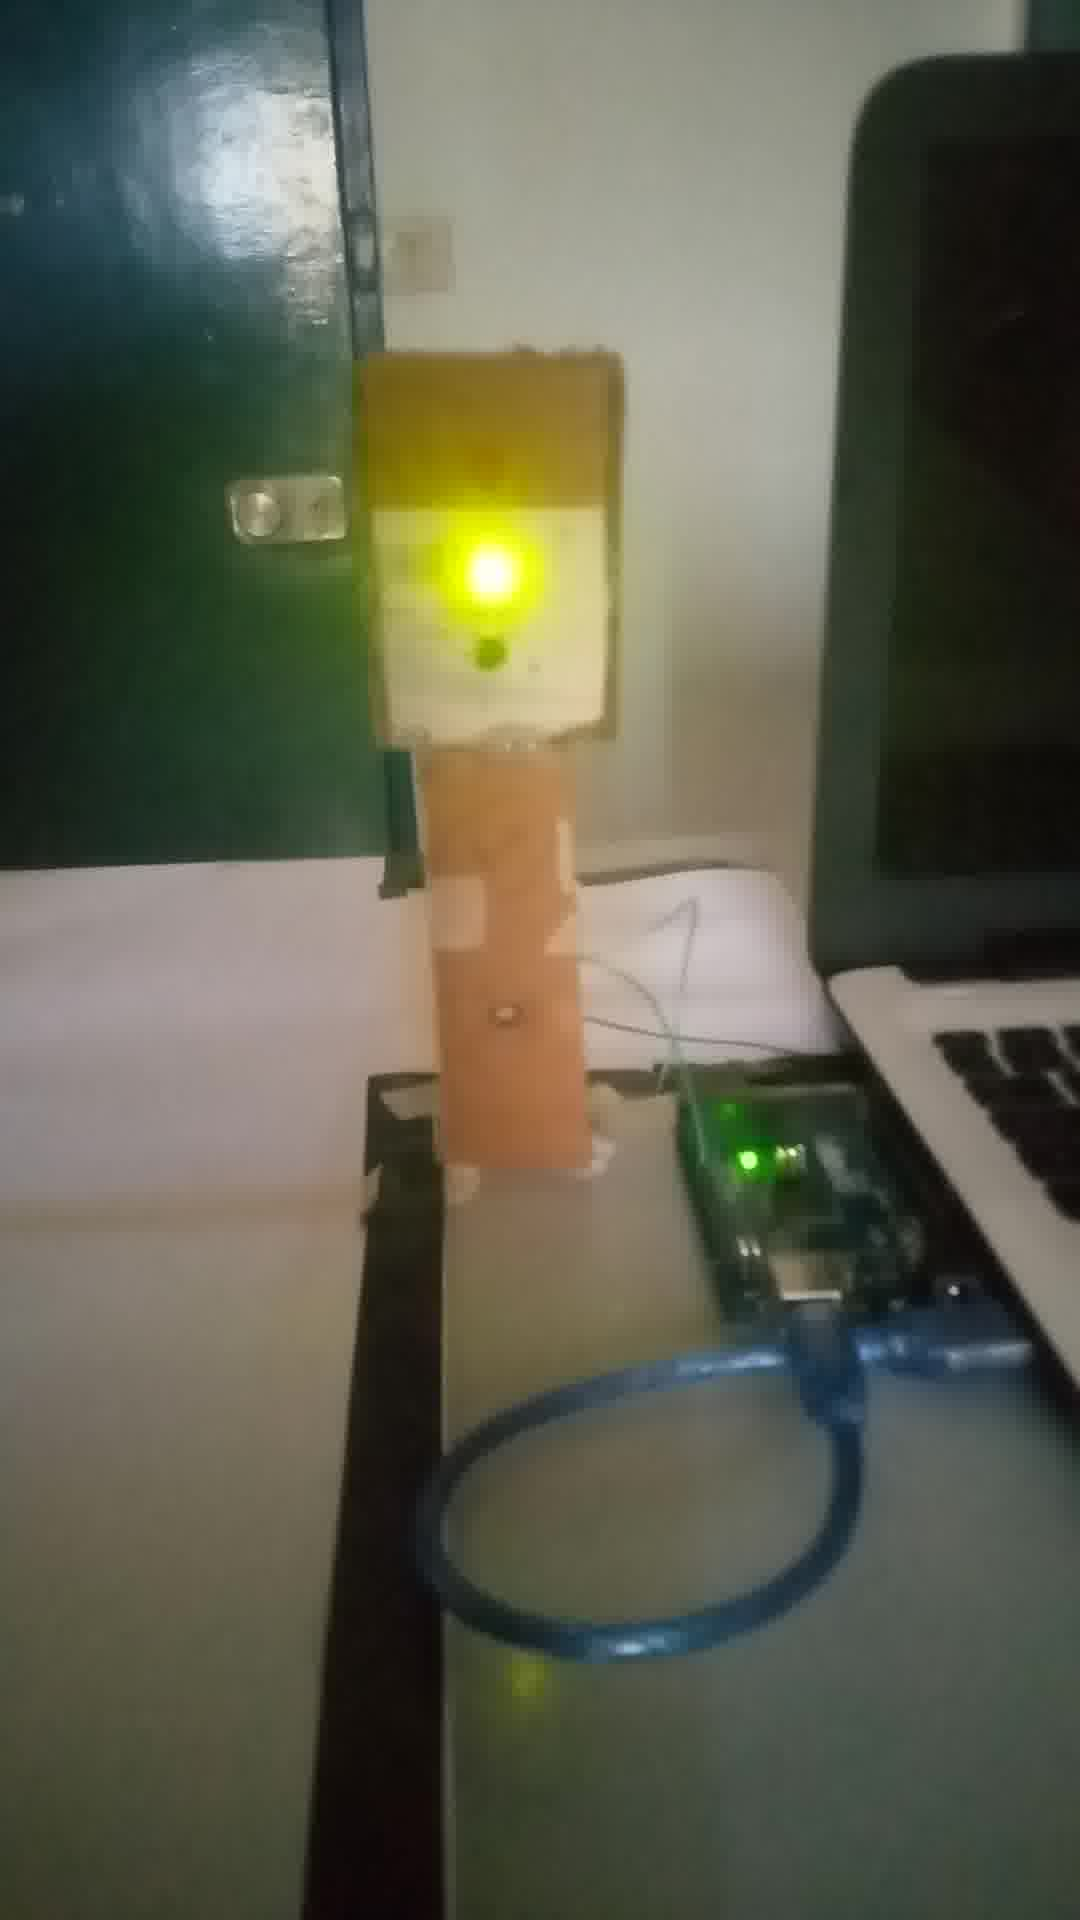yellow: (361, 367, 621, 752)
